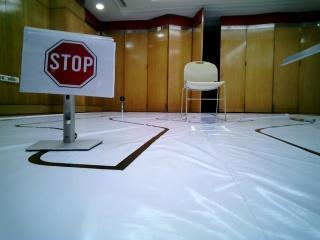stop: (25, 36, 109, 97)
